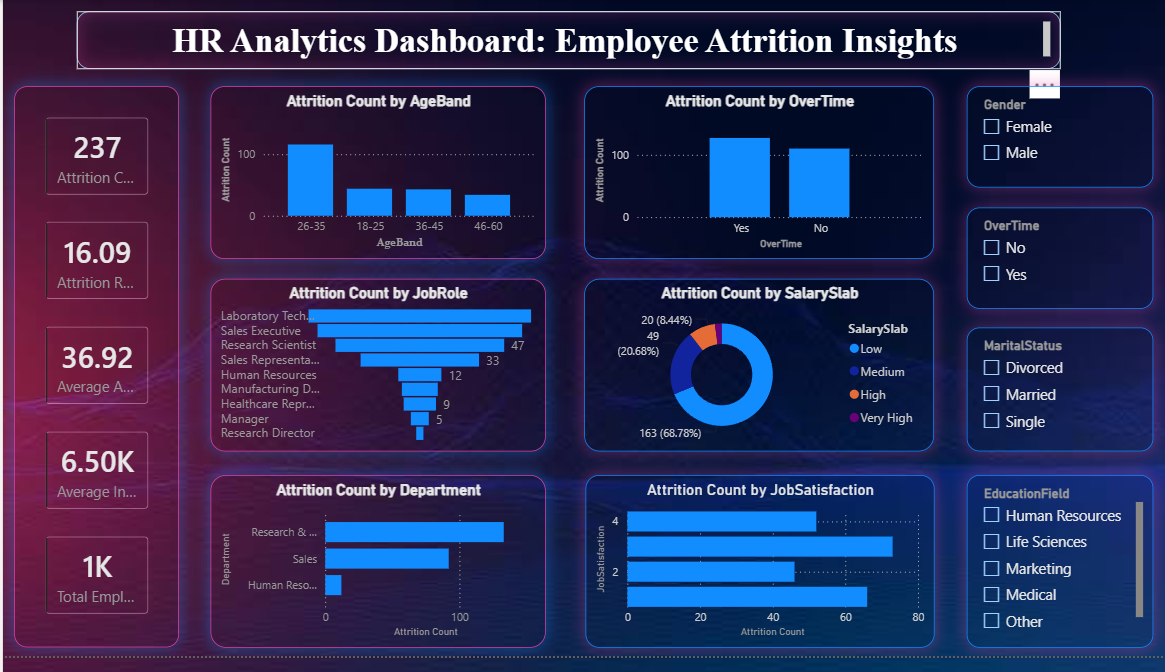

What the dashboard file says about the page in this screenshot:
{"tool":"powerbi","page":{"name":"Page 1","canvas":[1280,720],"ordinal":0},"visuals":[{"type":"cardVisual","fields":{"Data":["HR.Attrition Count","HR.Attrition Rate","HR.Average Age","HR.Average Income","HR.Total Employees"]},"box":[12.3,94.7,181.1,616.1],"z":0},{"type":"textbox","box":[81,12.3,1079.9,63.1],"z":1000},{"type":"clusteredBarChart","fields":{"Category":["HR.Department"],"Y":["HR.Attrition Count"]},"box":[227.8,521.4,367.8,189.4],"z":6000},{"type":"funnel","fields":{"Category":["HR.JobRole"],"Y":["HR.Attrition Count"]},"box":[227.8,306,367.8,189.4],"z":7000},{"type":"columnChart","fields":{"Category":["HR.AgeBand"],"Y":["HR.Attrition Count"]},"box":[227.8,94.7,367.8,189.4],"z":8000},{"type":"donutChart","fields":{"Category":["HR.SalarySlab"],"Y":["HR.Attrition Count"]},"box":[638.1,306,384.2,189.4],"z":9000},{"type":"columnChart","fields":{"Category":["HR.OverTime"],"Y":["HR.Attrition Count"]},"box":[638.1,94.7,384.2,189.4],"z":10000},{"type":"clusteredBarChart","fields":{"Category":["HR.JobSatisfaction"],"Y":["HR.Attrition Count"]},"box":[639.5,521.4,382.8,189.4],"z":11000},{"type":"slicer","fields":{"Values":["HR.Gender"]},"box":[1058,94.7,204.5,111.1],"z":12000},{"type":"slicer","fields":{"Values":["HR.OverTime"]},"box":[1058,227.8,204.5,111.1],"z":16001},{"type":"slicer","fields":{"Values":["HR.MaritalStatus"]},"box":[1058,359.5,204.5,135.8],"z":16002},{"type":"slicer","fields":{"Values":["HR.EducationField"]},"box":[1058,521.4,204.5,189.4],"z":16003}]}

Visuals, with their boxes in screenshot pixels (x1, y1, x2, y2), scaled from the page's 1280x720 canvas onto the 1165x672 screenshot:
cardVisual - HR.Attrition Count x HR.Attrition Rate: [11, 88, 176, 663]
textbox: [74, 11, 1057, 70]
clusteredBarChart - HR.Department x HR.Attrition Count: [207, 487, 542, 663]
funnel - HR.JobRole x HR.Attrition Count: [207, 286, 542, 462]
columnChart - HR.AgeBand x HR.Attrition Count: [207, 88, 542, 265]
donutChart - HR.SalarySlab x HR.Attrition Count: [581, 286, 930, 462]
columnChart - HR.OverTime x HR.Attrition Count: [581, 88, 930, 265]
clusteredBarChart - HR.JobSatisfaction x HR.Attrition Count: [582, 487, 930, 663]
slicer - HR.Gender: [963, 88, 1149, 192]
slicer - HR.OverTime: [963, 213, 1149, 316]
slicer - HR.MaritalStatus: [963, 336, 1149, 462]
slicer - HR.EducationField: [963, 487, 1149, 663]
